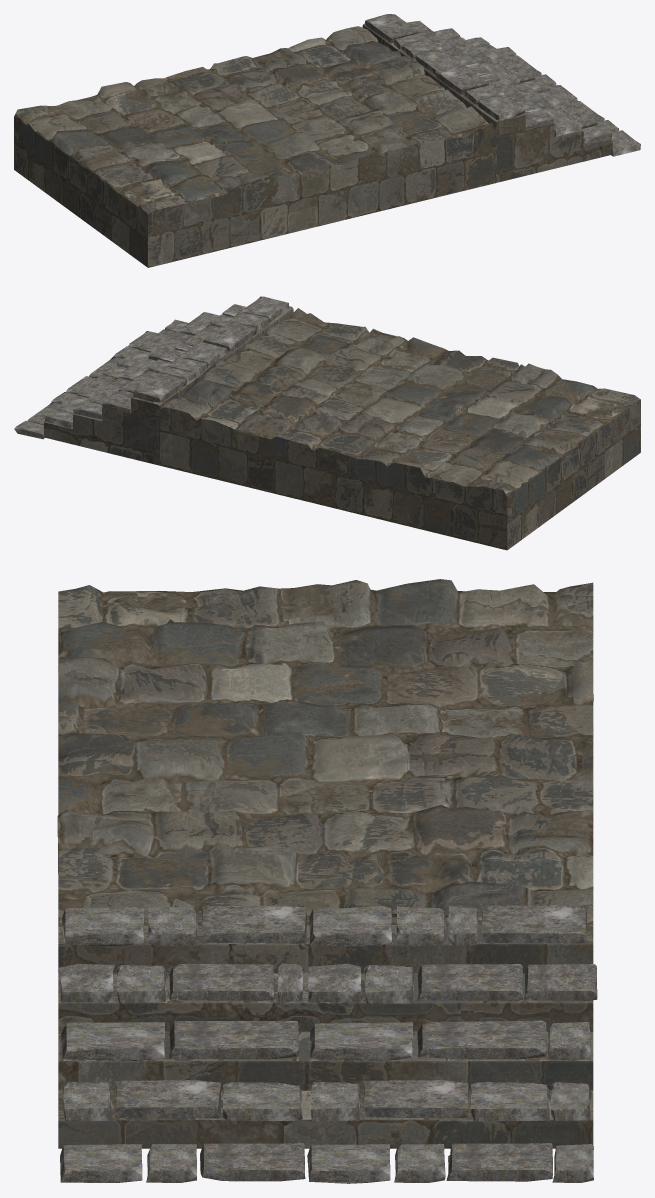
File: SM_Walkway_2x4_01.fbx
3 renders of one model, top to bottom at view 1: azimuth 30°, elevation 25°; view 2: azimuth 150°, elevation 25°; view 3: azimuth 270°, elevation 25°, orthographic. The views are drawn at different scales.
Parts seen in each view (by area): view 1: SM_Walkway_2x4_01_LOD0; view 2: SM_Walkway_2x4_01_LOD0; view 3: SM_Walkway_2x4_01_LOD0.
Part boxes in pixels (box(x1,y1,x2,y2)): SM_Walkway_2x4_01_LOD0: box(14, 14, 640, 267); SM_Walkway_2x4_01_LOD0: box(14, 296, 640, 550); SM_Walkway_2x4_01_LOD0: box(57, 579, 597, 1183).
Bounding box in the file's own units: 426 × 202 × 57.49.
